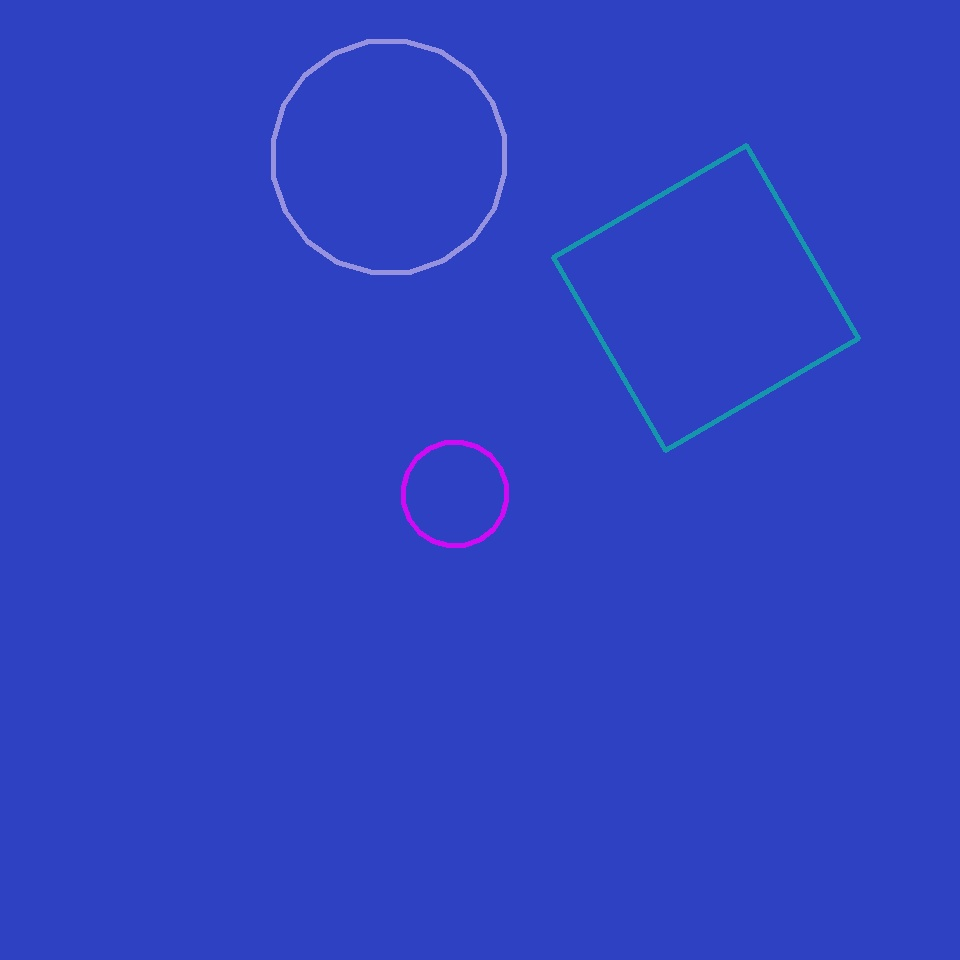square: (554, 146, 858, 450)
triangle: (274, 42, 504, 272), (404, 442, 506, 545)
